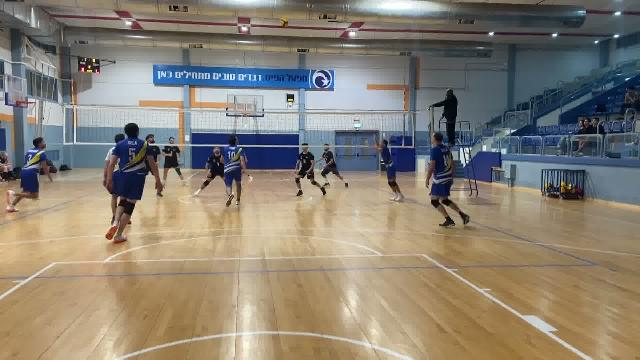ball: (277, 15, 291, 27)
